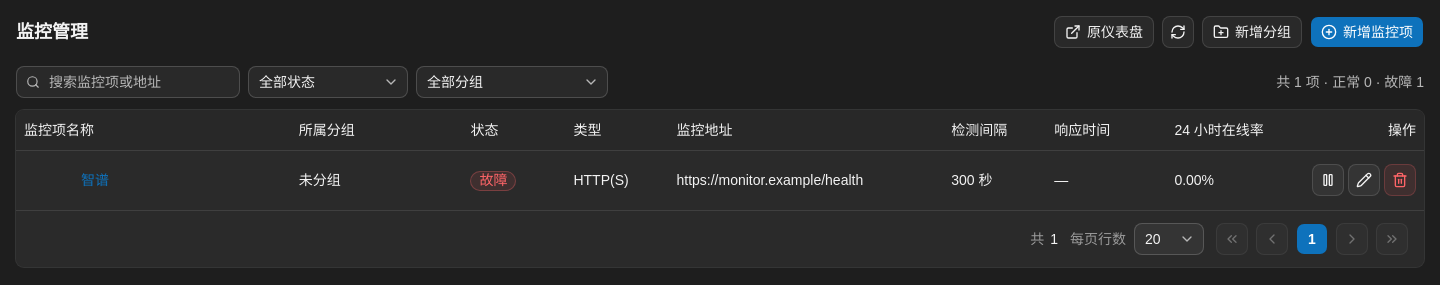
Scenario: 配置刷新失败保留监控列表但禁用编辑，重新读取成功后恢复操作
Step 1. Click the button named "刷新监控项" → x=1178, y=32, box x1=1162 y1=16 x2=1194 y2=48
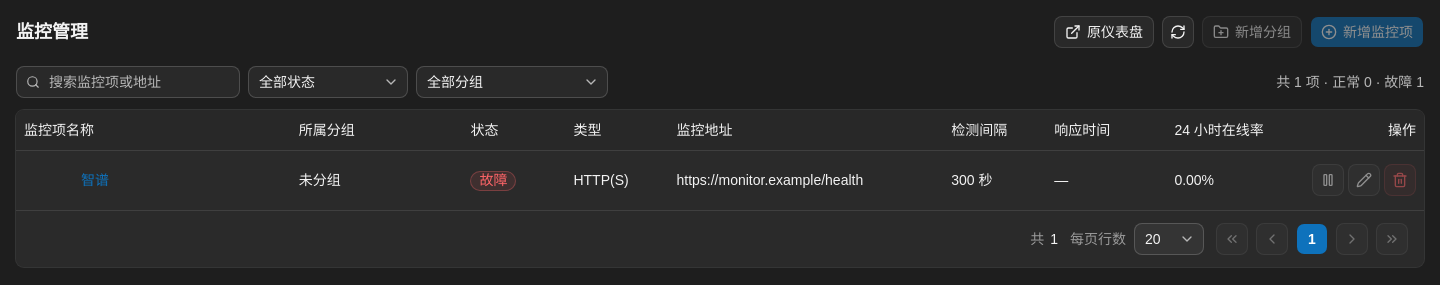
Result: the button "新增监控项" is disabled at x1=1310 y1=16 x2=1424 y2=48
Result: the button named "编辑" is disabled at x1=1348 y1=164 x2=1380 y2=196
Result: the button named "暂停" is disabled at x1=1312 y1=164 x2=1344 y2=196
Step 2. Click the button named "刷新监控项" → x=1178, y=32, box x1=1162 y1=16 x2=1194 y2=48
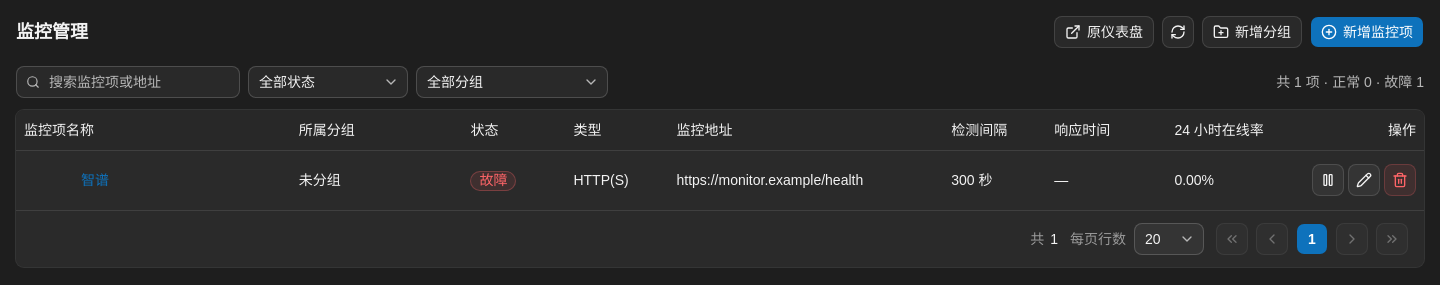
Result: the button named "编辑" is enabled at x1=1348 y1=164 x2=1380 y2=196
